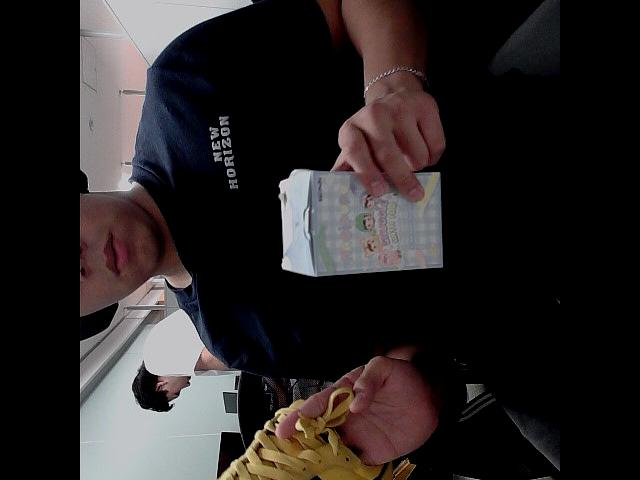Blind_box: (278, 157, 448, 277)
Shoes: (107, 400, 399, 480)
